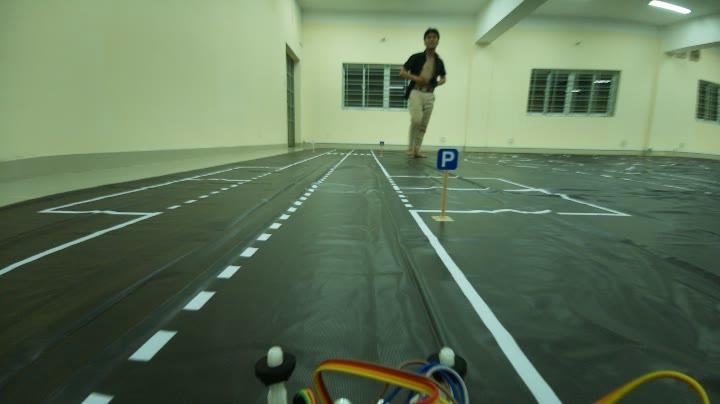parking: (430, 146, 459, 174)
